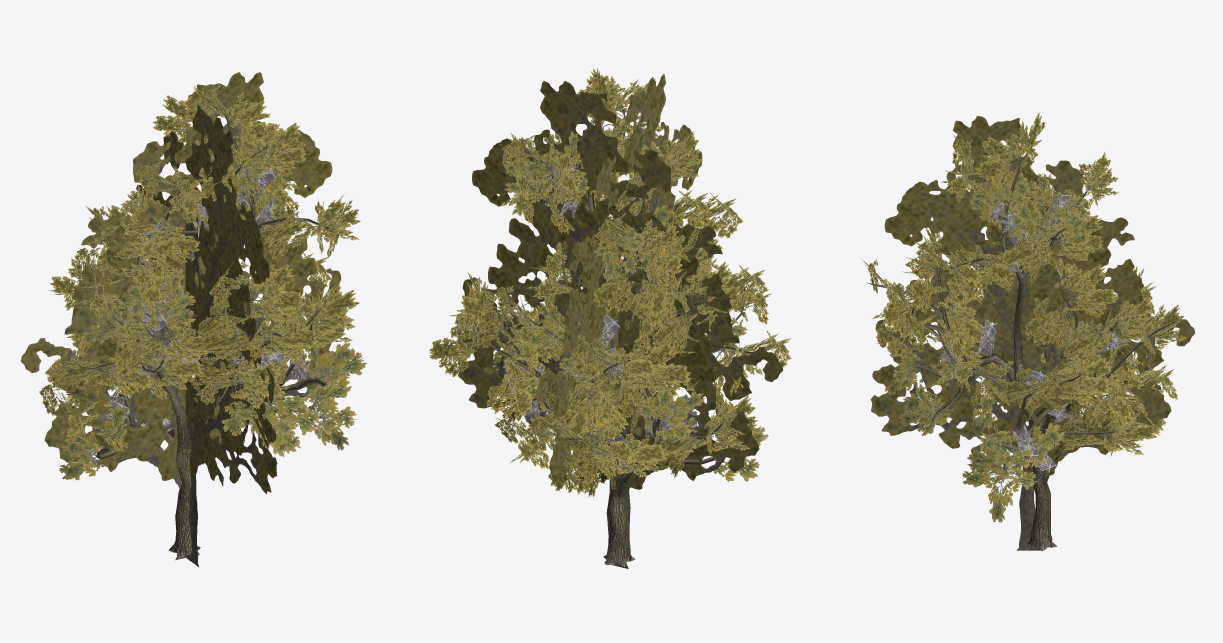
The model's file is Tree-Oak3B.fbx.
3 views of the same model, side by side, from view 1: azimuth 30°, elevation 25°; view 2: azimuth 150°, elevation 25°; view 3: azimuth 270°, elevation 25° (orthographic). The views are drawn at different scales.
Parts seen in each view (by area): view 1: Tree-Oak3B_LOD0, Billboard-Oak3B; view 2: Tree-Oak3B_LOD0, Billboard-Oak3B; view 3: Tree-Oak3B_LOD0, Billboard-Oak3B.
Boxes of the visible parts, x1=… form: Tree-Oak3B_LOD0: x1=39, y1=84, x2=366, y2=557; Billboard-Oak3B: x1=20, y1=72, x2=344, y2=566; Tree-Oak3B_LOD0: x1=429, y1=68, x2=791, y2=566; Billboard-Oak3B: x1=458, y1=74, x2=783, y2=568; Tree-Oak3B_LOD0: x1=861, y1=113, x2=1186, y2=550; Billboard-Oak3B: x1=870, y1=115, x2=1194, y2=550.
Size of what is drawn, in the model's own units: 2603 by 3562 by 2584.
